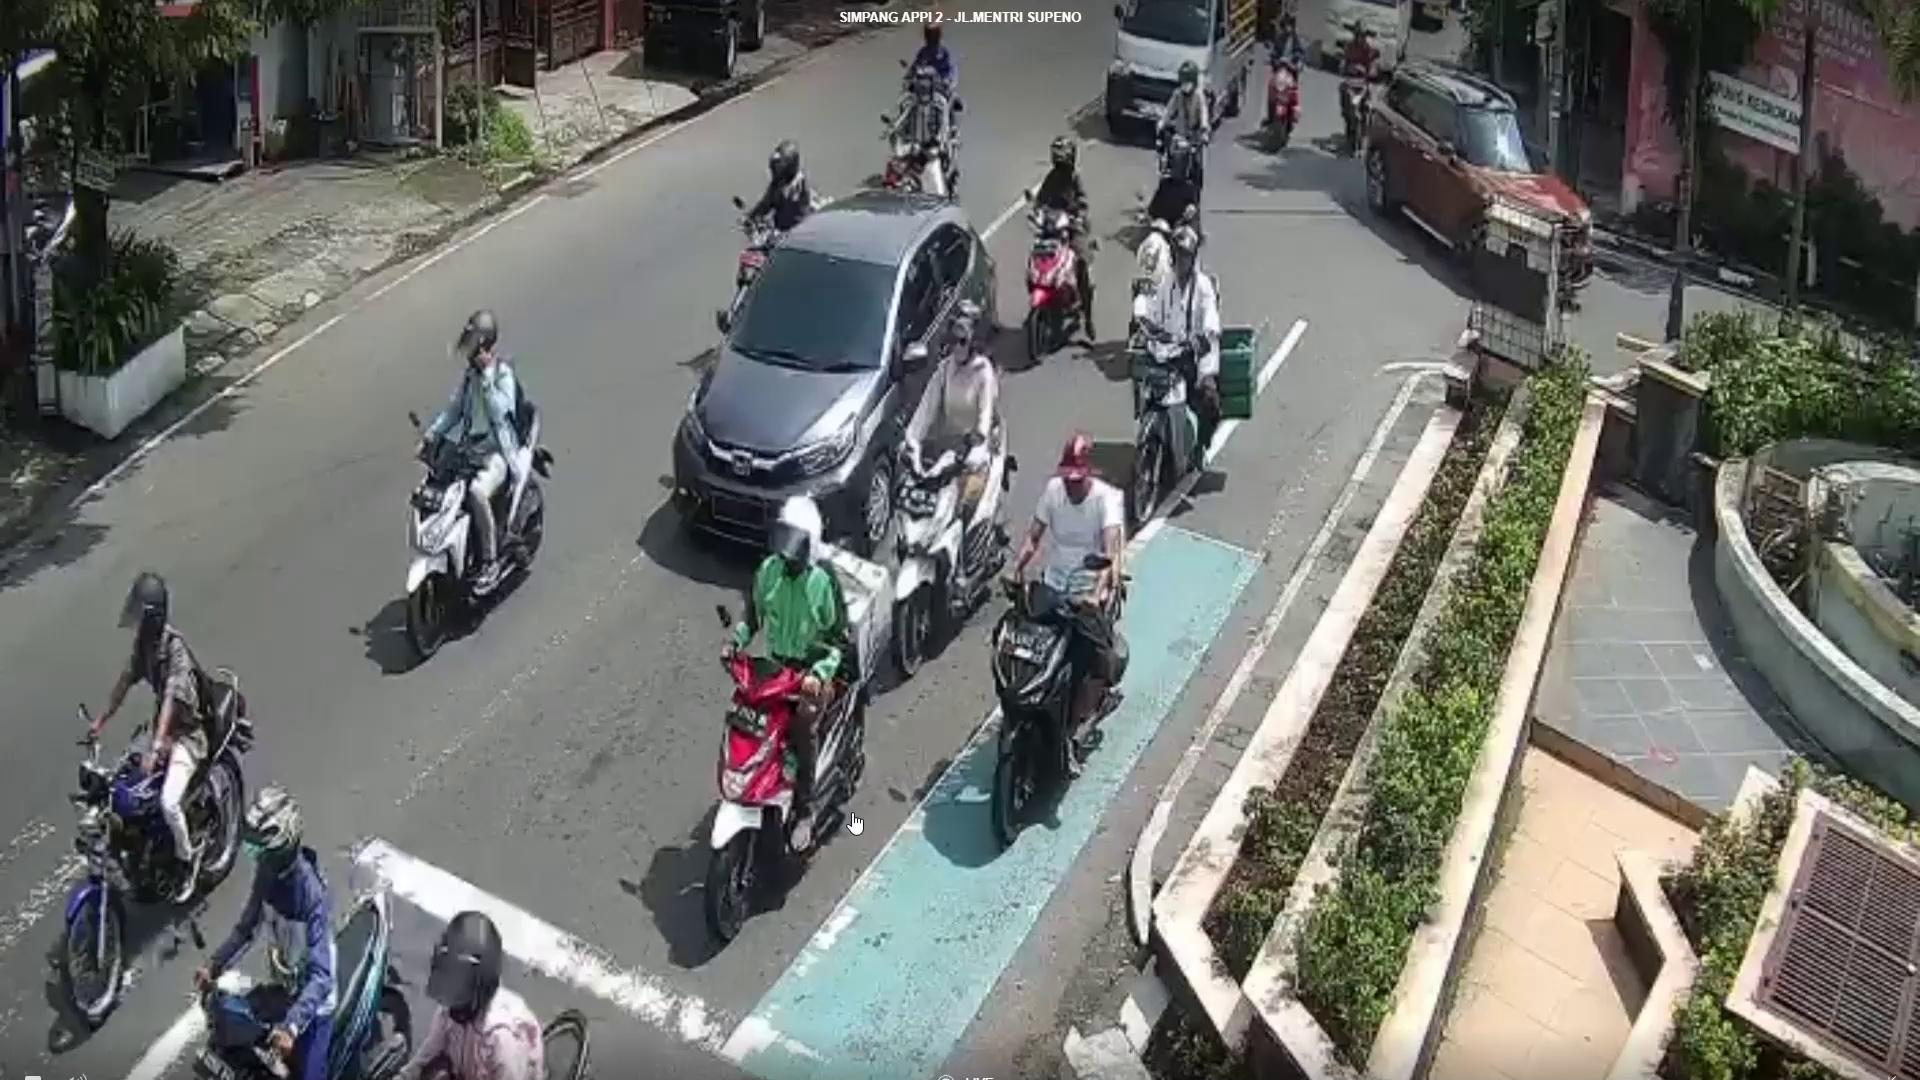car: (671, 189, 997, 575), (1362, 55, 1593, 320)
motorbike: (66, 682, 244, 1025), (699, 645, 866, 945), (200, 886, 409, 1080), (402, 406, 546, 659), (890, 411, 1005, 674), (989, 582, 1075, 848), (1127, 327, 1197, 517), (1023, 198, 1093, 356)
truck: (1105, 0, 1257, 141)
